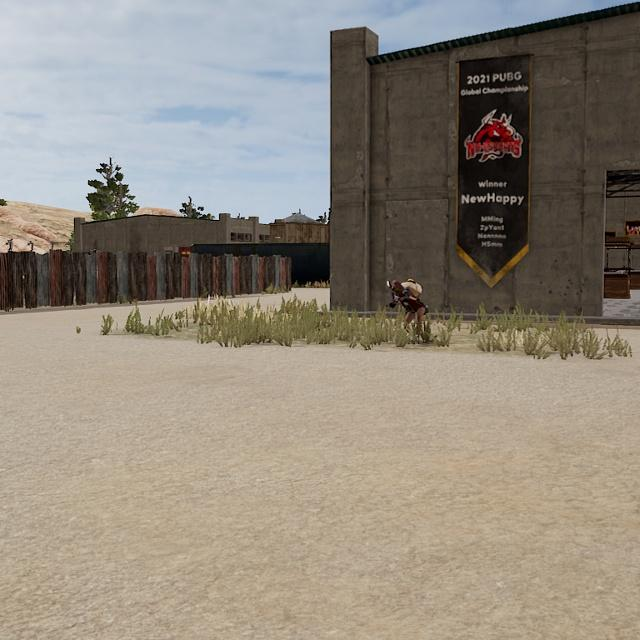head: (390, 279, 404, 297)
people: (387, 278, 430, 334)
